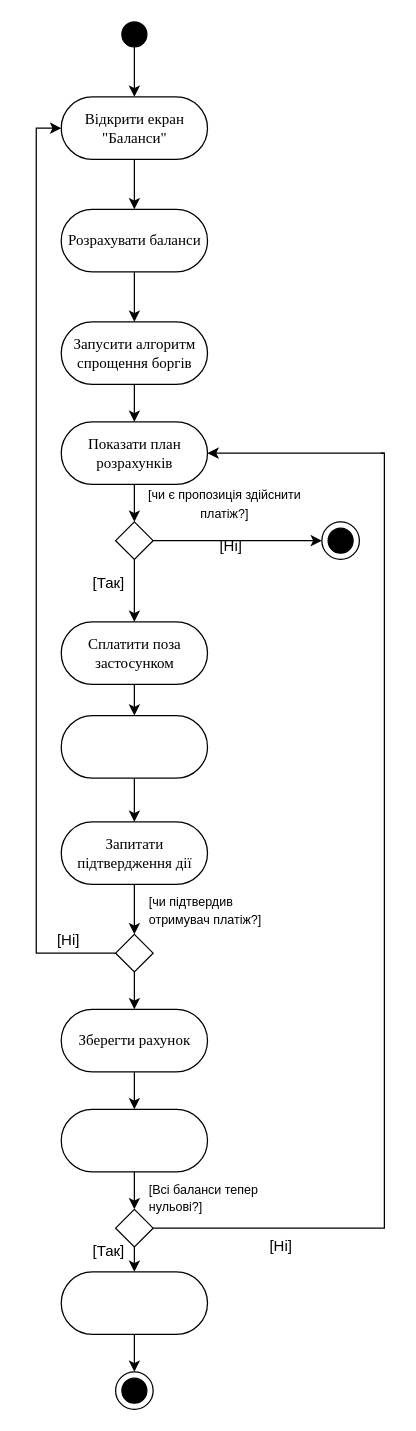
Image size: 416x1431. Some labels were removed from this diagram. Each missing label, with the box of its shape:
Перерахувати баланси: (60, 1108, 208, 1172)
Позначити платіж як "Сплачено": (60, 714, 208, 778)
Показати повідомлення "Усі рахунки закрито!": (60, 1271, 208, 1334)
